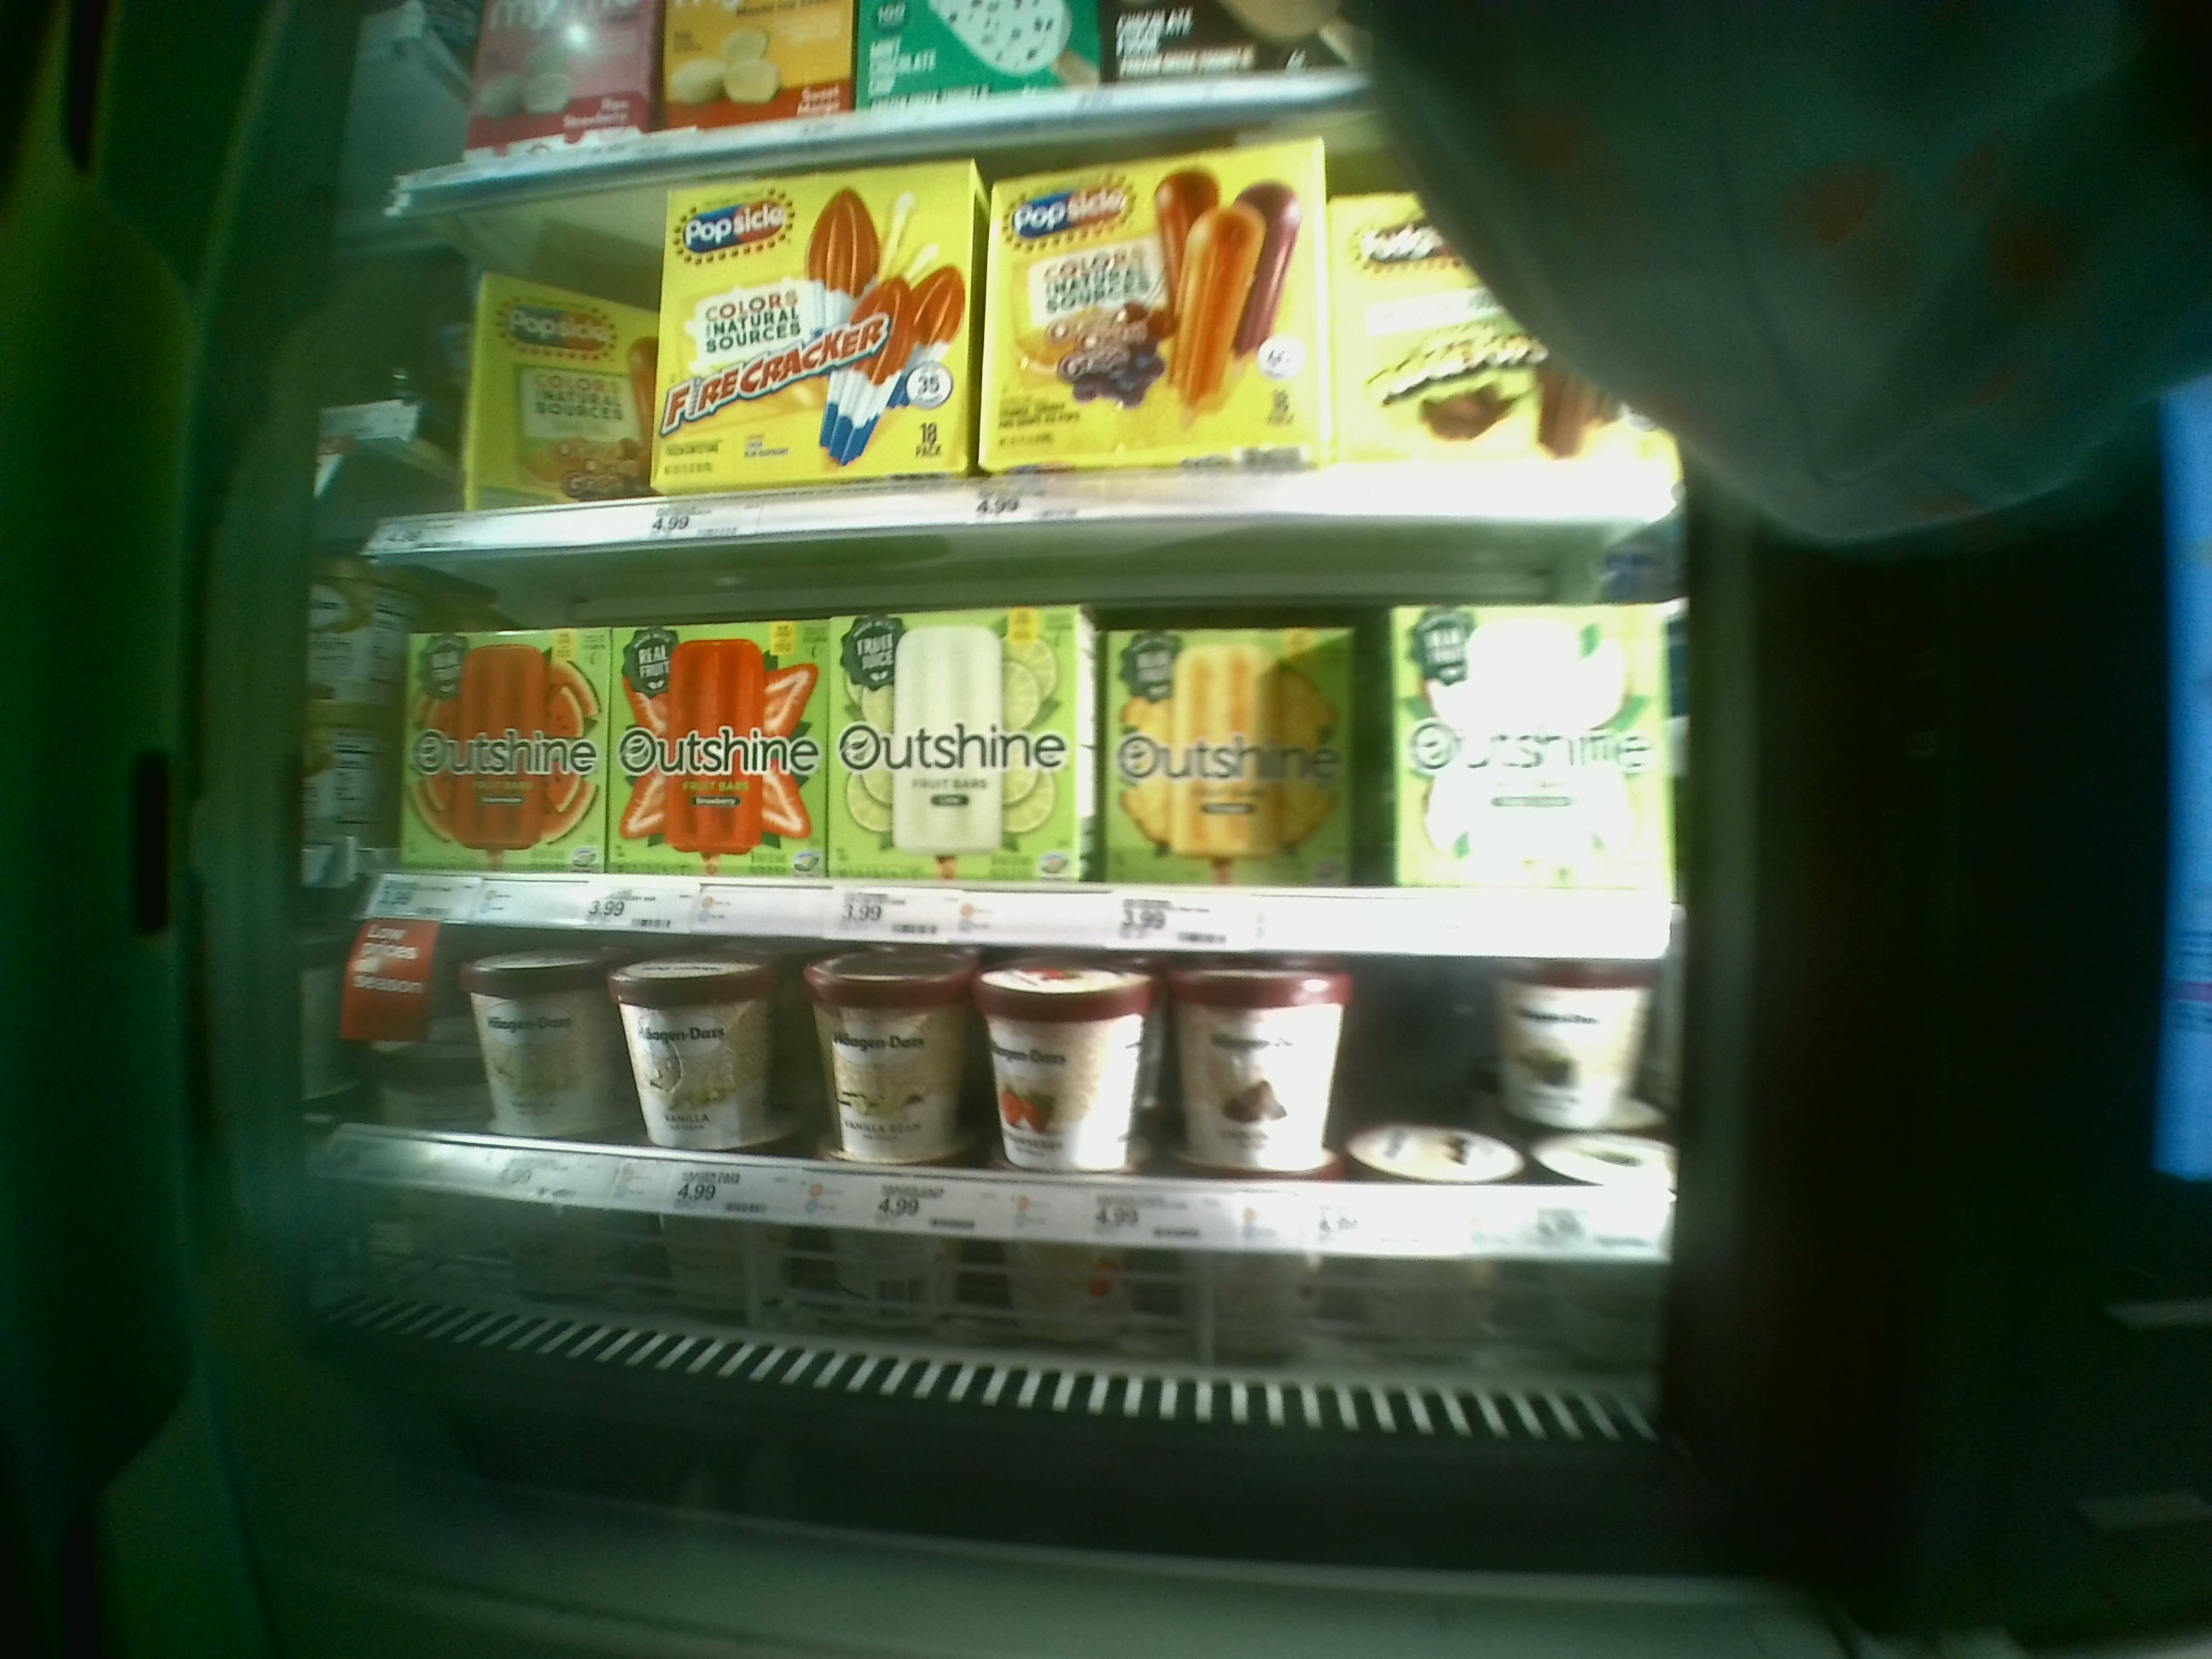ice-cream-shelf: (364, 526, 1672, 943), (343, 934, 1696, 1324)
